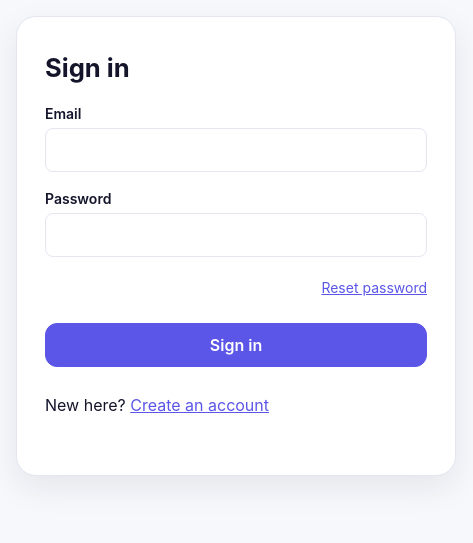
TC-AUTH-03 — wrong password › shows the plain message and keeps the user on the login page
In the field labelled "Email": (236,150) [45,128,427,172], type "alice@test.local"
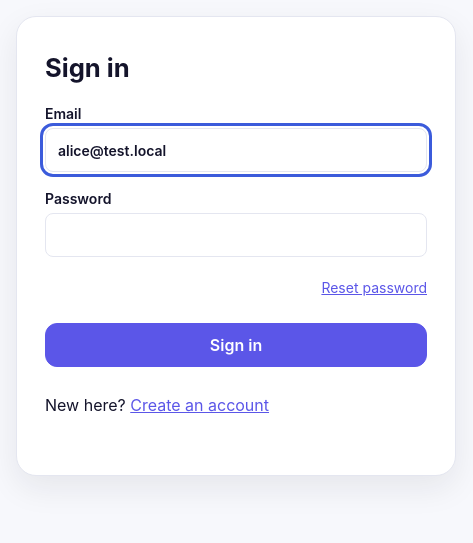
In the password field labelled "Password": (236,235) [45,213,427,257], type "wrongpass"
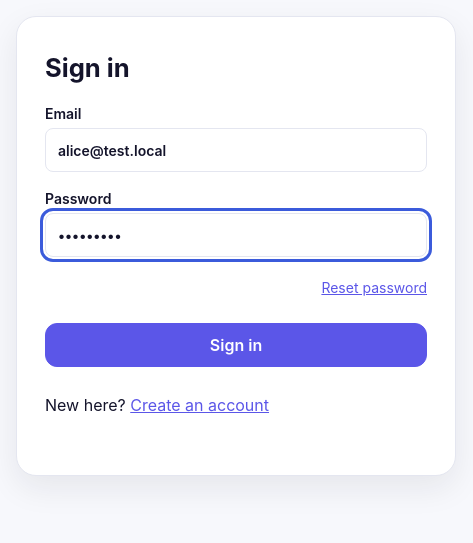
Click the button "Sign in": (236,345) [45,323,427,367]
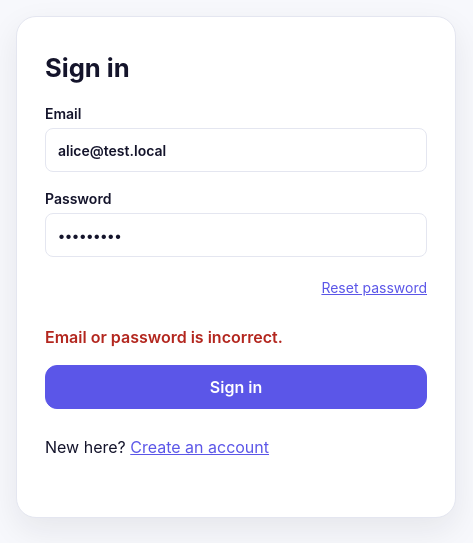
Expected: the heading "Sign in" is shown, [45,52,130,83]
Expected: the message reads "Email or password is incorrect.", [45,327,283,347]
